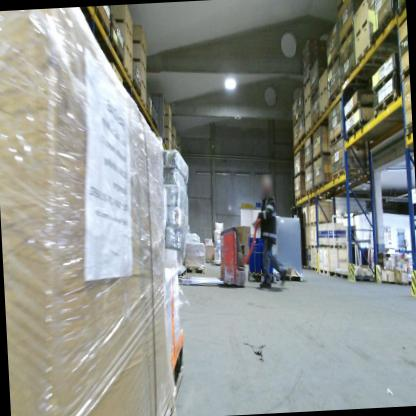pallet: (151, 339, 195, 416), (368, 5, 406, 47), (340, 63, 386, 88), (88, 10, 118, 46), (328, 83, 370, 108), (370, 91, 401, 124), (329, 163, 371, 186), (341, 101, 379, 125), (98, 37, 125, 67), (368, 68, 396, 96), (344, 118, 374, 143), (311, 180, 344, 199), (305, 185, 337, 203), (247, 265, 276, 284), (337, 23, 354, 51), (325, 51, 339, 77), (328, 130, 347, 149), (172, 264, 190, 283), (277, 269, 302, 282), (311, 150, 330, 165), (187, 262, 208, 275), (401, 121, 412, 145), (132, 80, 142, 101), (292, 197, 312, 207), (375, 249, 394, 259), (308, 84, 319, 100), (309, 116, 321, 130), (394, 0, 406, 13), (297, 132, 306, 148), (293, 169, 304, 182), (296, 109, 305, 123), (151, 118, 159, 133), (303, 159, 312, 171), (212, 259, 222, 269), (203, 257, 215, 265), (146, 106, 152, 121), (293, 141, 300, 153), (290, 119, 298, 129)
pallet_truck: (171, 211, 268, 289), (401, 238, 411, 257)
